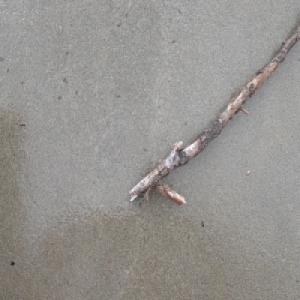Wood: (128, 25, 300, 205)
